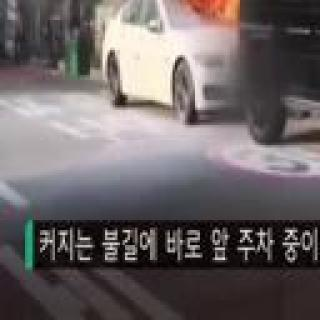fire: (172, 0, 255, 19)
